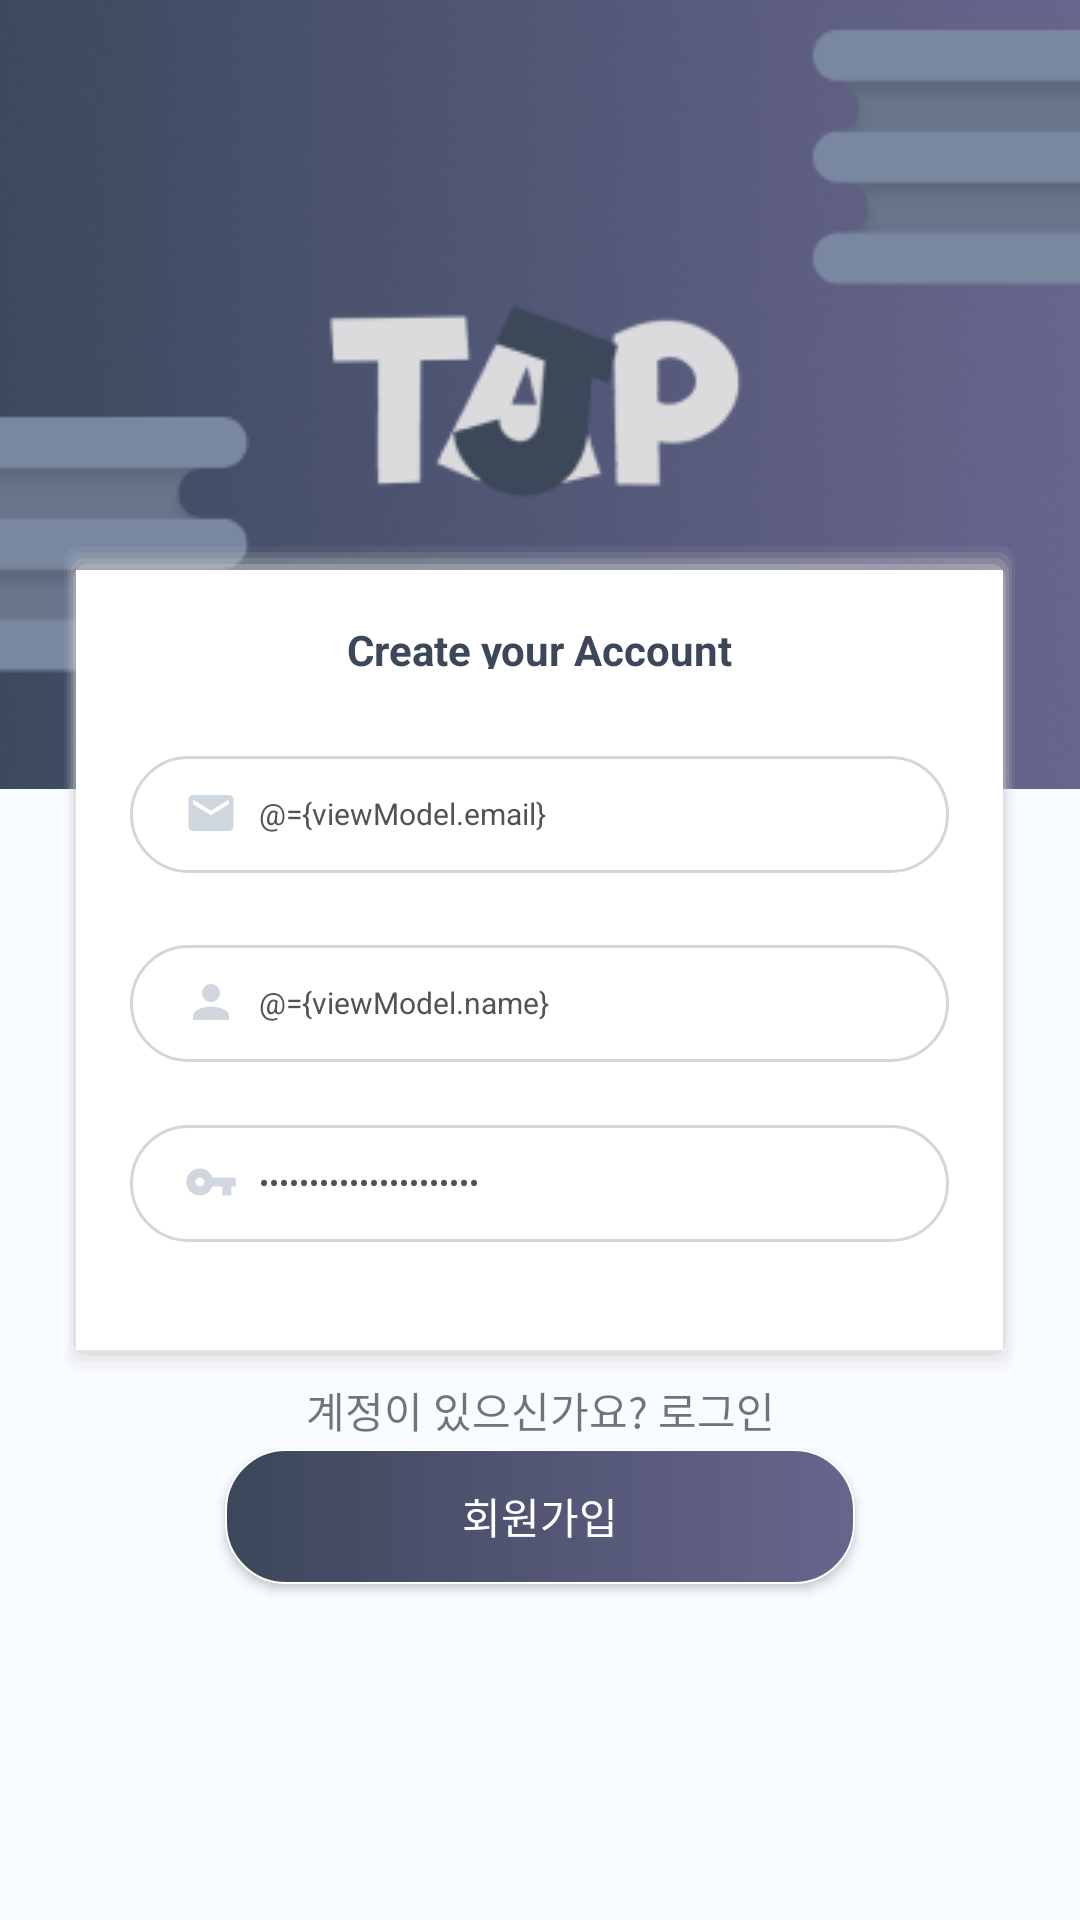

Point at icon controls on the screen. Image size 1080x1920, points as point (x, y).
person: point (211, 1002)
vpn key: point (211, 1182)
